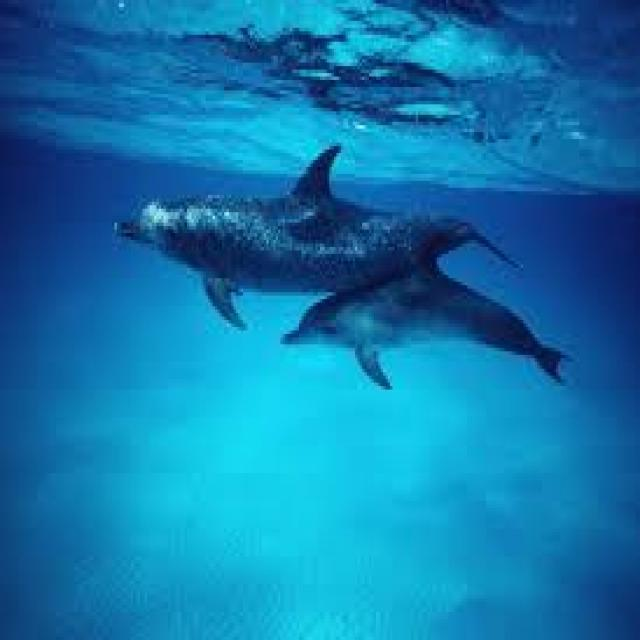dolphin: (98, 125, 523, 289), (292, 264, 582, 424)
